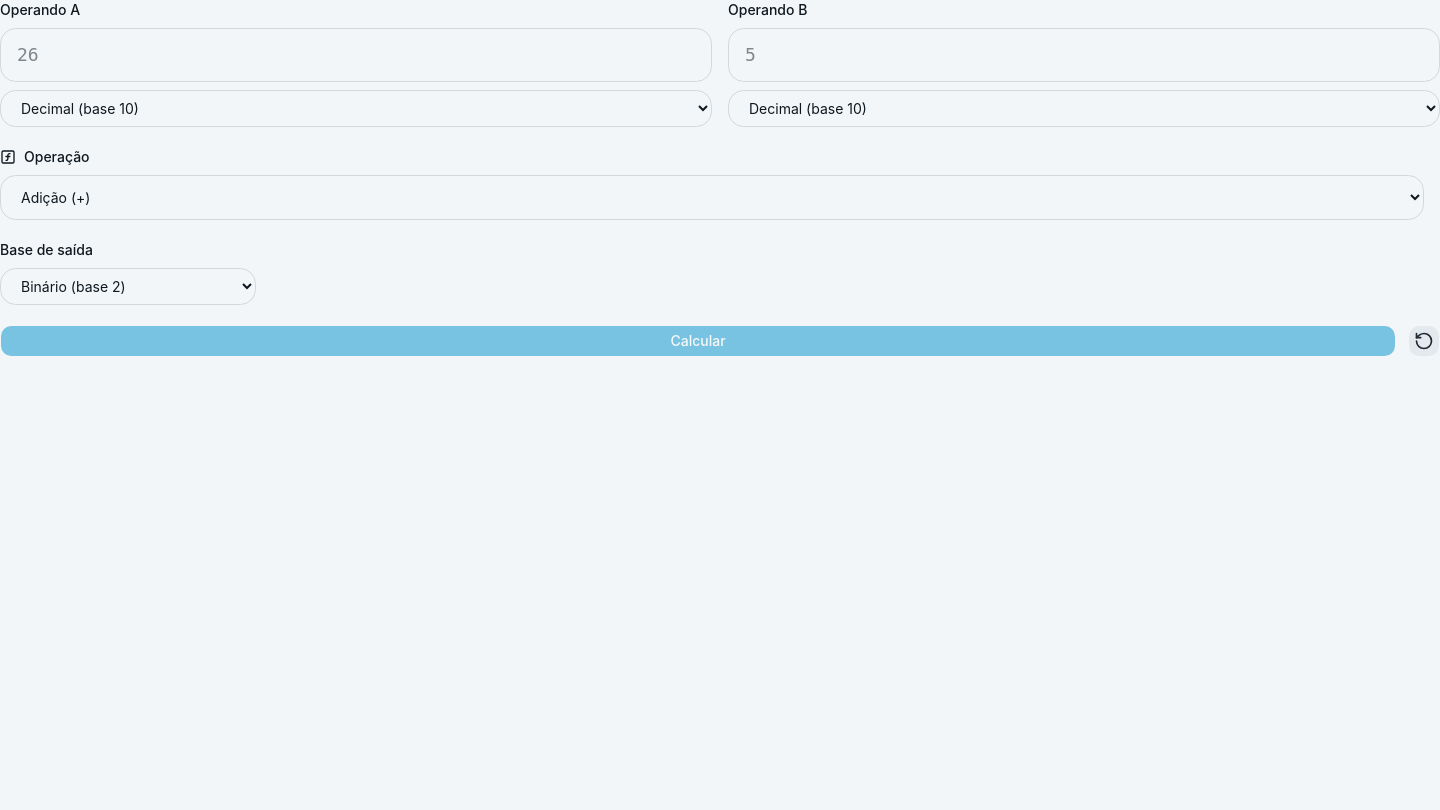
OperationsPanel › calcula shift left e expande o passo a passo
This screenshot has width=1440, height=810.
Type "1" into the field labelled "Operando A".
click(356, 55); type("1")  # box x1=0 y1=28 x2=712 y2=82
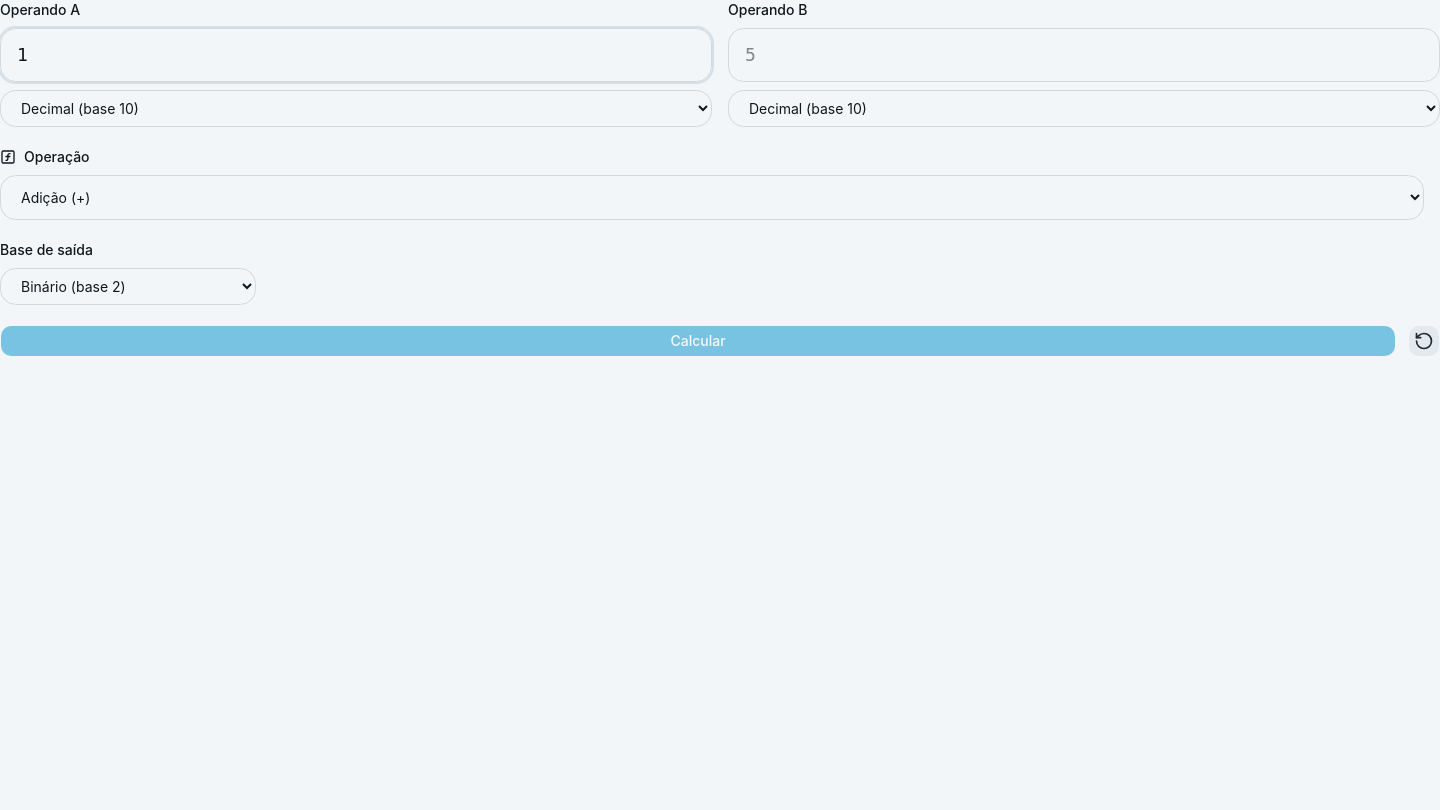
Select "Binário (base 2)" in the dropdown named "Base do operando A" below "Operando A" at x=356, y=108, box x1=0 y1=90 x2=712 y2=127
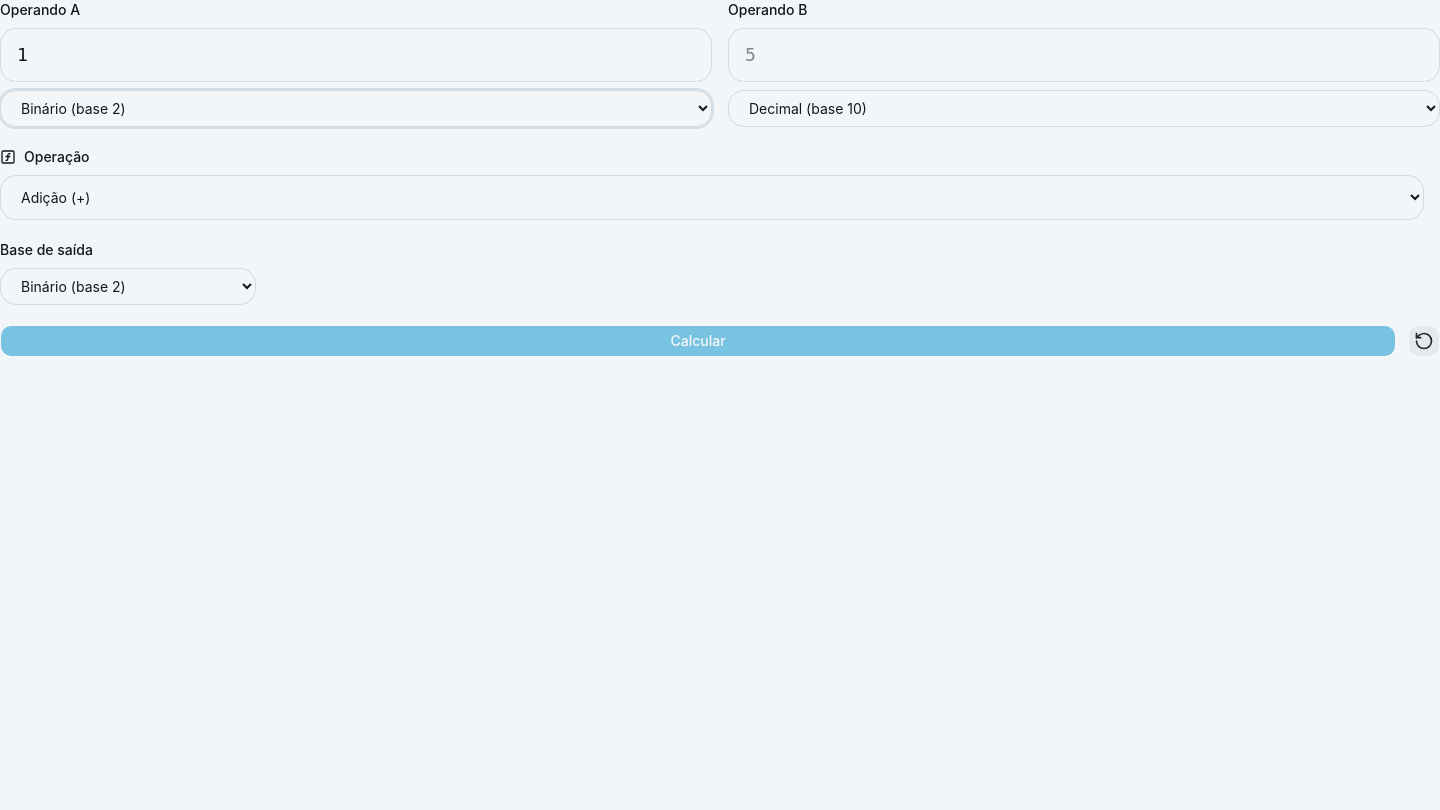
Select "Shift Left (<<)" in the dropdown labelled "Operação" at x=712, y=198, box x1=0 y1=175 x2=1424 y2=220
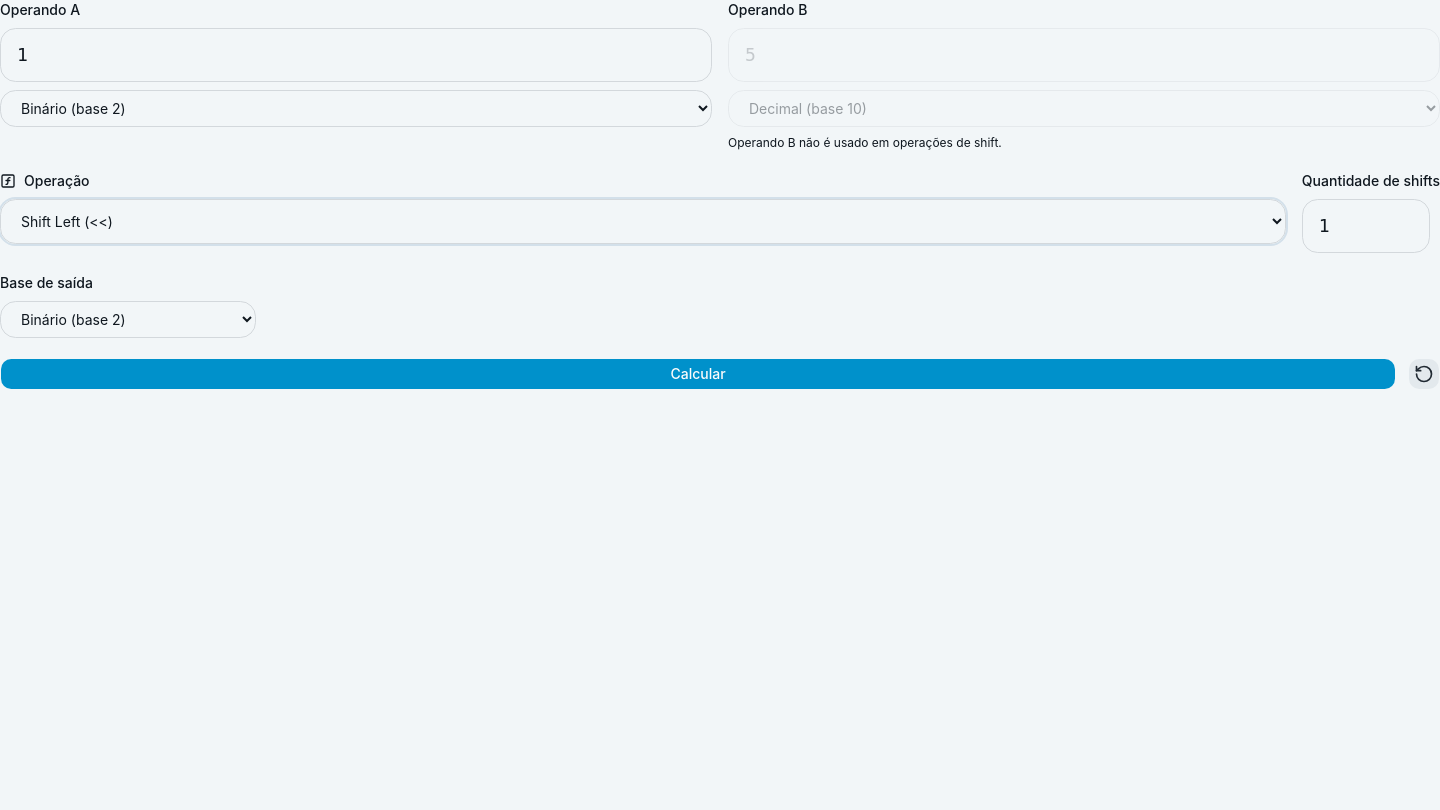
Replace the text in the number field labelled "Quantidade de shifts" with "3" at x=1366, y=226, box x1=1302 y1=199 x2=1430 y2=253
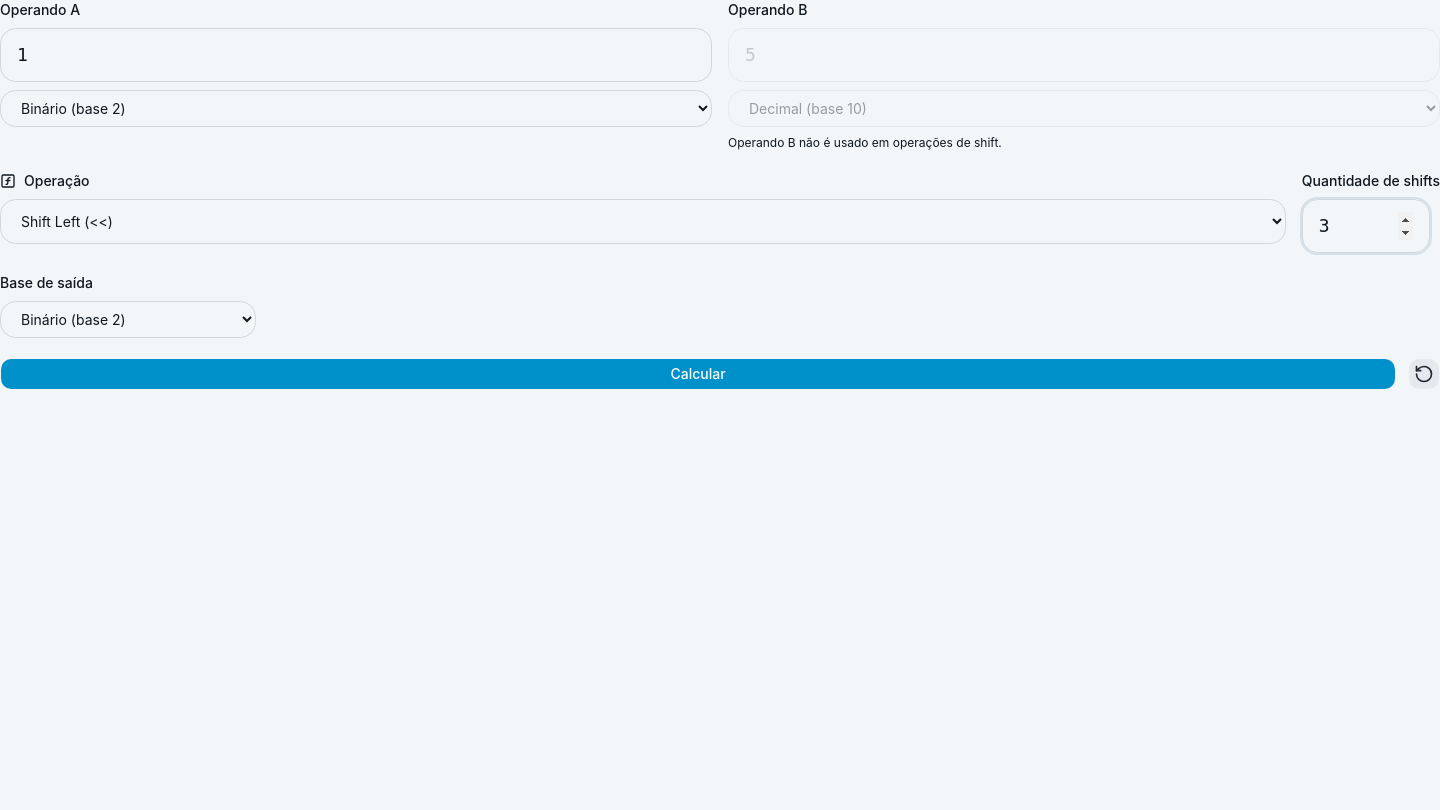
Select "Binário (base 2)" in the dropdown labelled "Base de saída" at x=128, y=320, box x1=0 y1=301 x2=256 y2=338
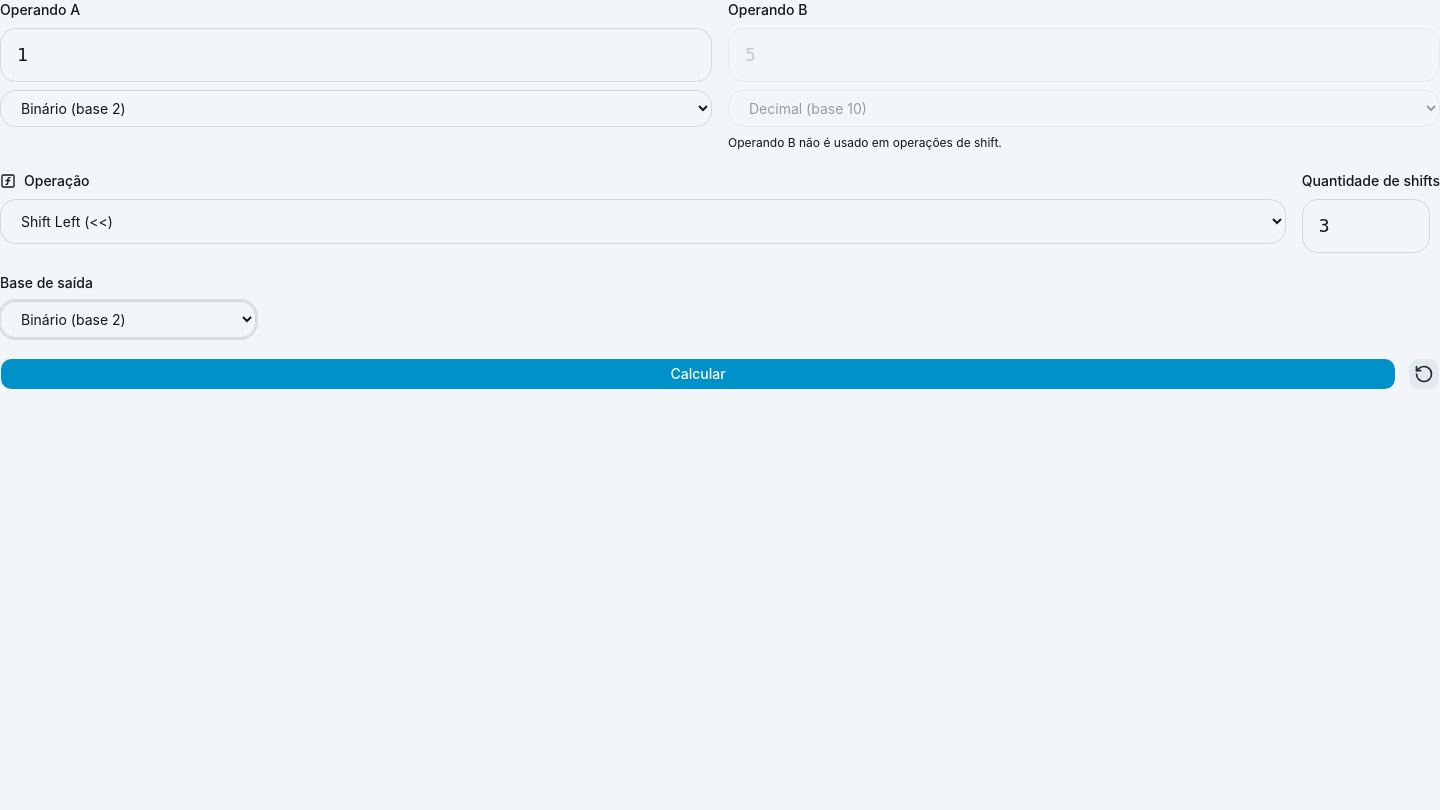
Click the button "Calcular".
click(698, 374)  # box x1=0 y1=358 x2=1396 y2=390
(page scrolled)
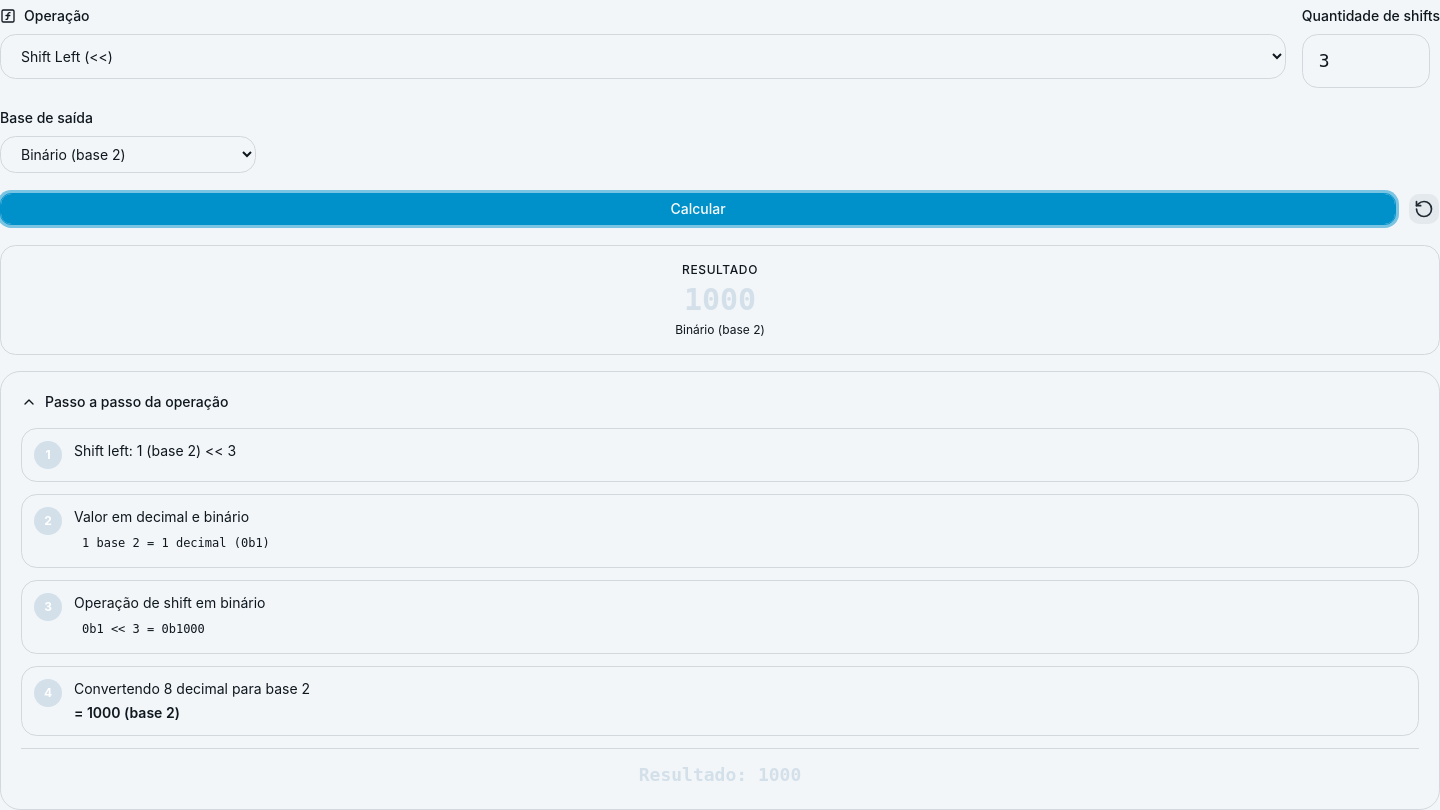
Expected: the element with test id "operation-result" shows "1000", x1=684 y1=282 x2=756 y2=317
Expected: the element with test id "operation-steps" shows "Shift left", x1=74 y1=442 x2=236 y2=459
